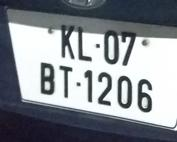0: (115, 75, 136, 113), (102, 27, 120, 65)
1: (83, 70, 95, 104)
2: (95, 72, 112, 109)
6: (136, 74, 155, 114)
7: (119, 29, 139, 68)
B: (38, 60, 56, 95)
K: (58, 22, 78, 62)
L: (76, 27, 94, 66)
T: (57, 63, 75, 102)
